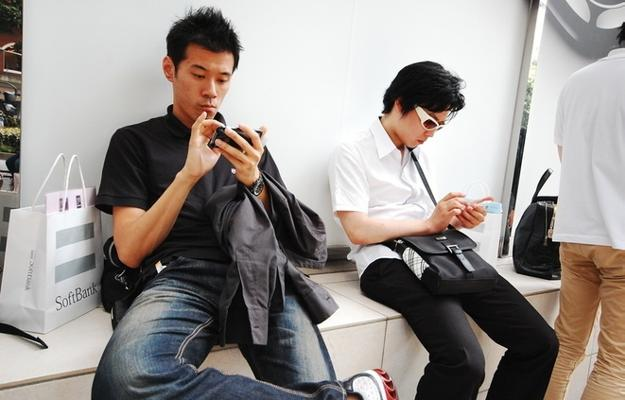person: (92, 10, 398, 400)
